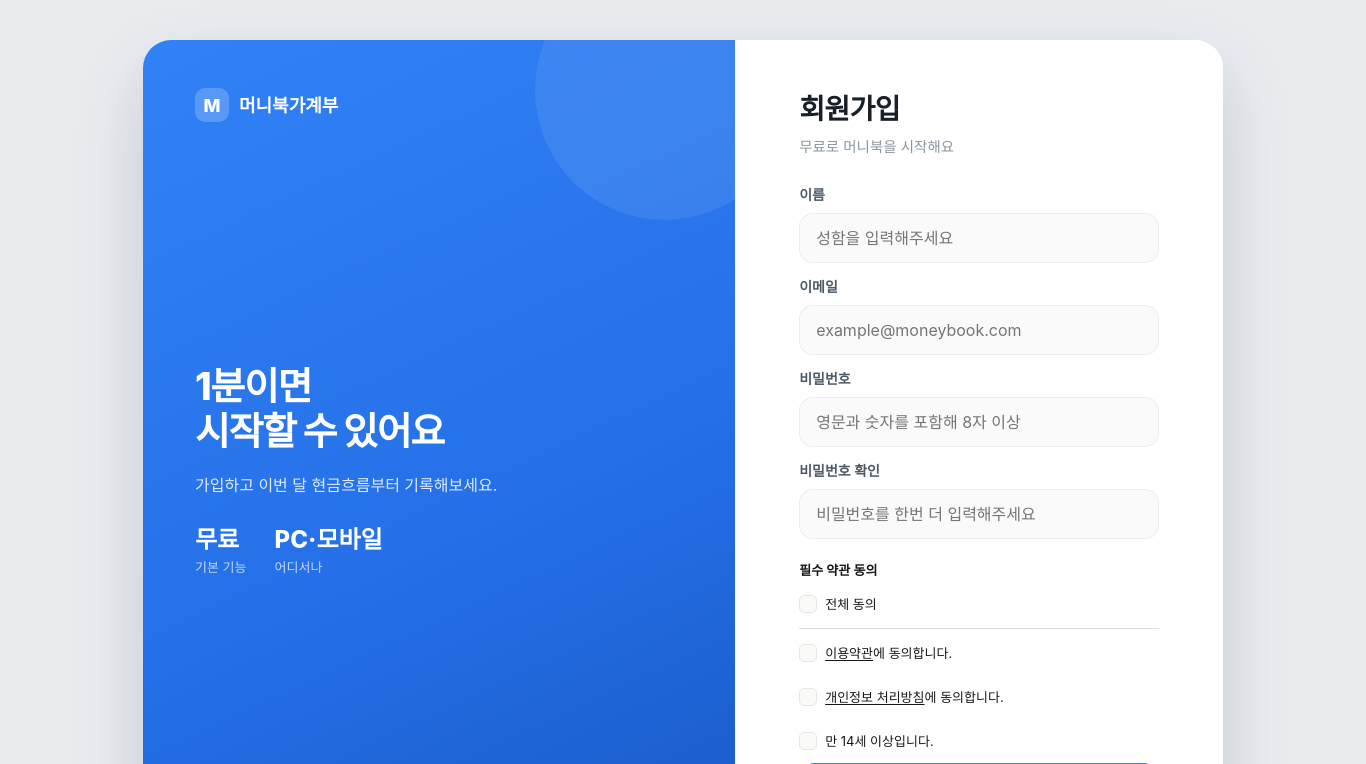
Scenario: SignupPage legal consent validation › clears every consent when 전체 동의 is unselected
What coordinates should you click on to do the following:
click the checkbox labelled "전체 동의"
I would click on:
 (838, 604)
Its box is [799,595,877,613].
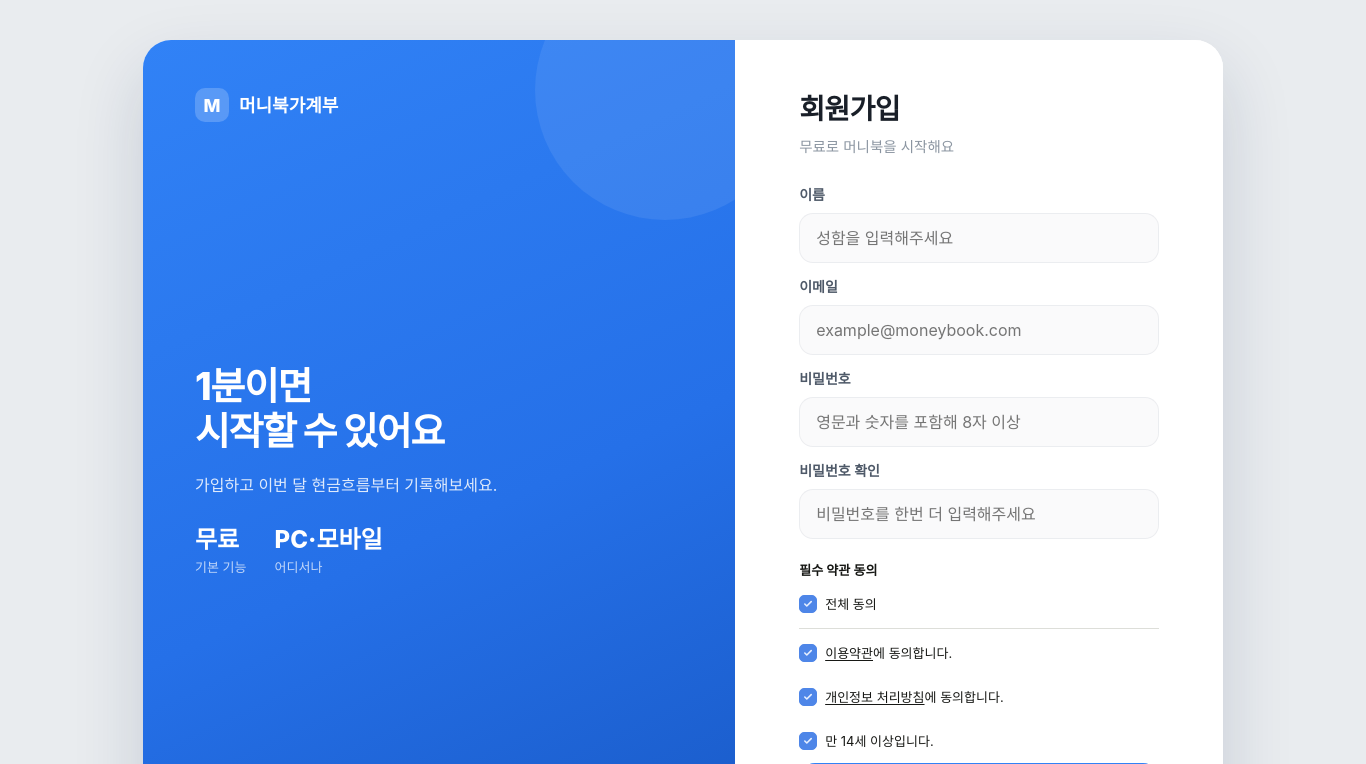
What coordinates should you click on to do the following:
click the checkbox labelled "전체 동의"
I would click on:
 (838, 604)
Its box is [799,595,877,613].
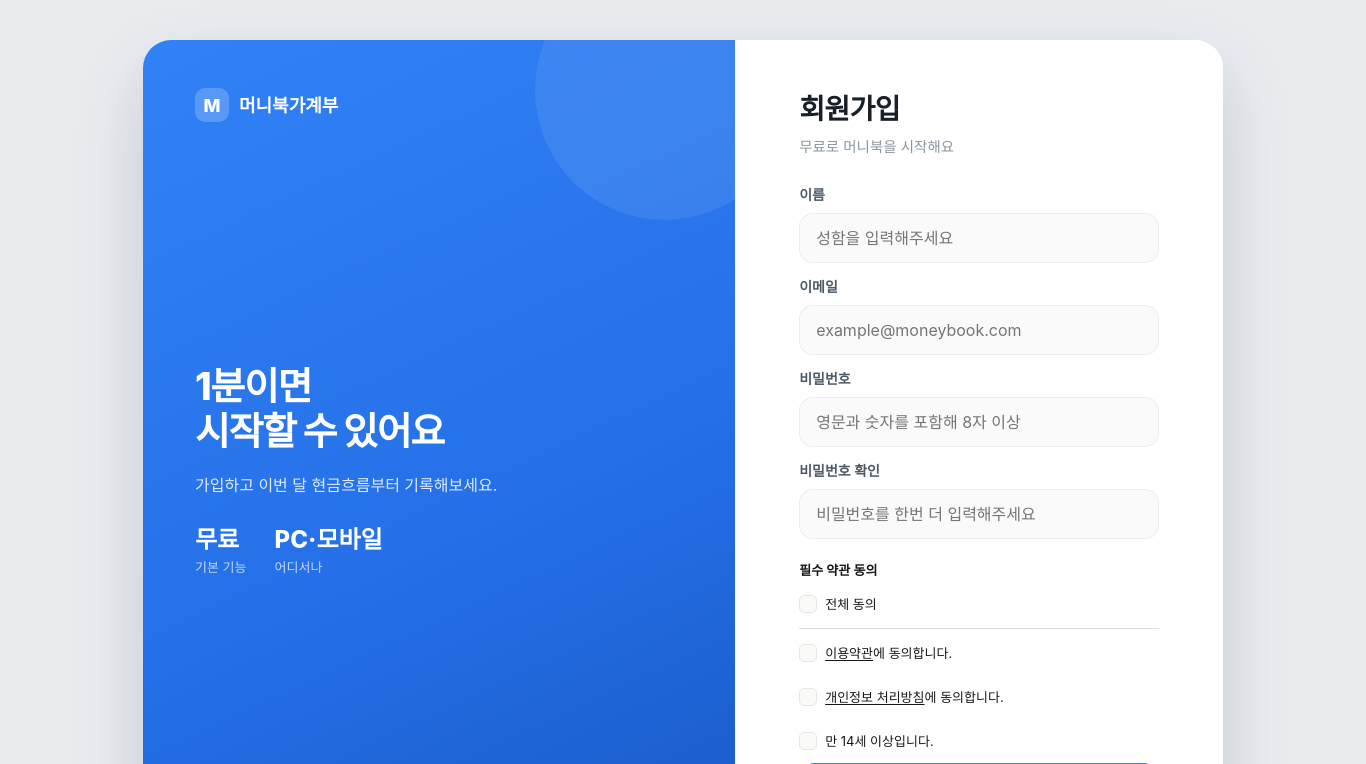
Expected: the checkbox labelled "이용약관 에 동의합니다." is not checked, [799,644,952,662]
Expected: the checkbox labelled "만 14세 이상입니다." is not checked, [799,732,934,750]
